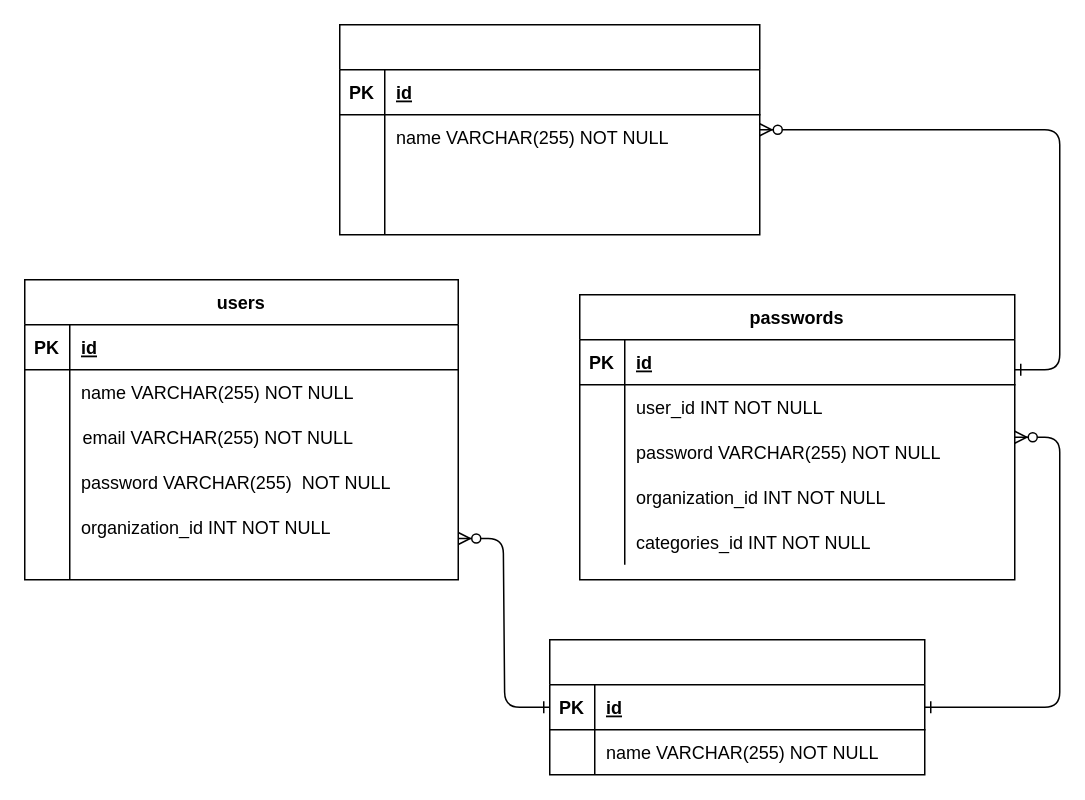
Some shapes in this 1085 by 800 pixel diagram are drawn without their labels. The box of each missing label's shape, as (x1, y1, x2, y2) in pixels:
categories: (338, 23, 760, 235)
organizations: (548, 638, 925, 775)
